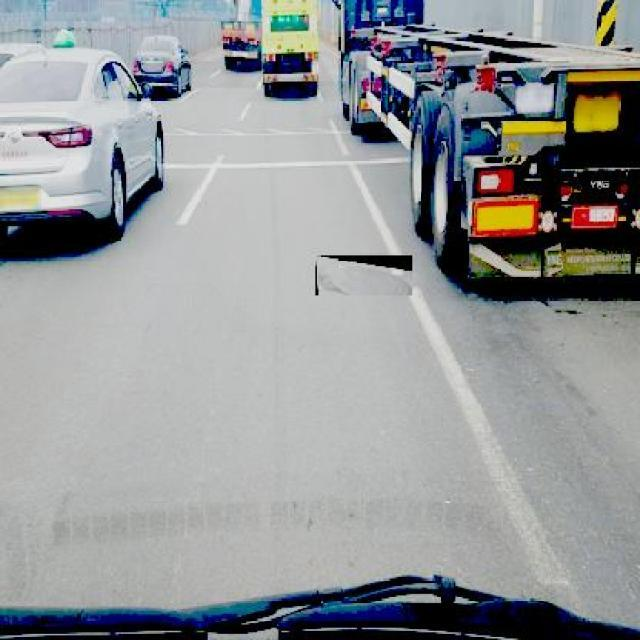Manhole: (316, 256, 412, 296)
Speed Bump: (163, 124, 340, 140)
